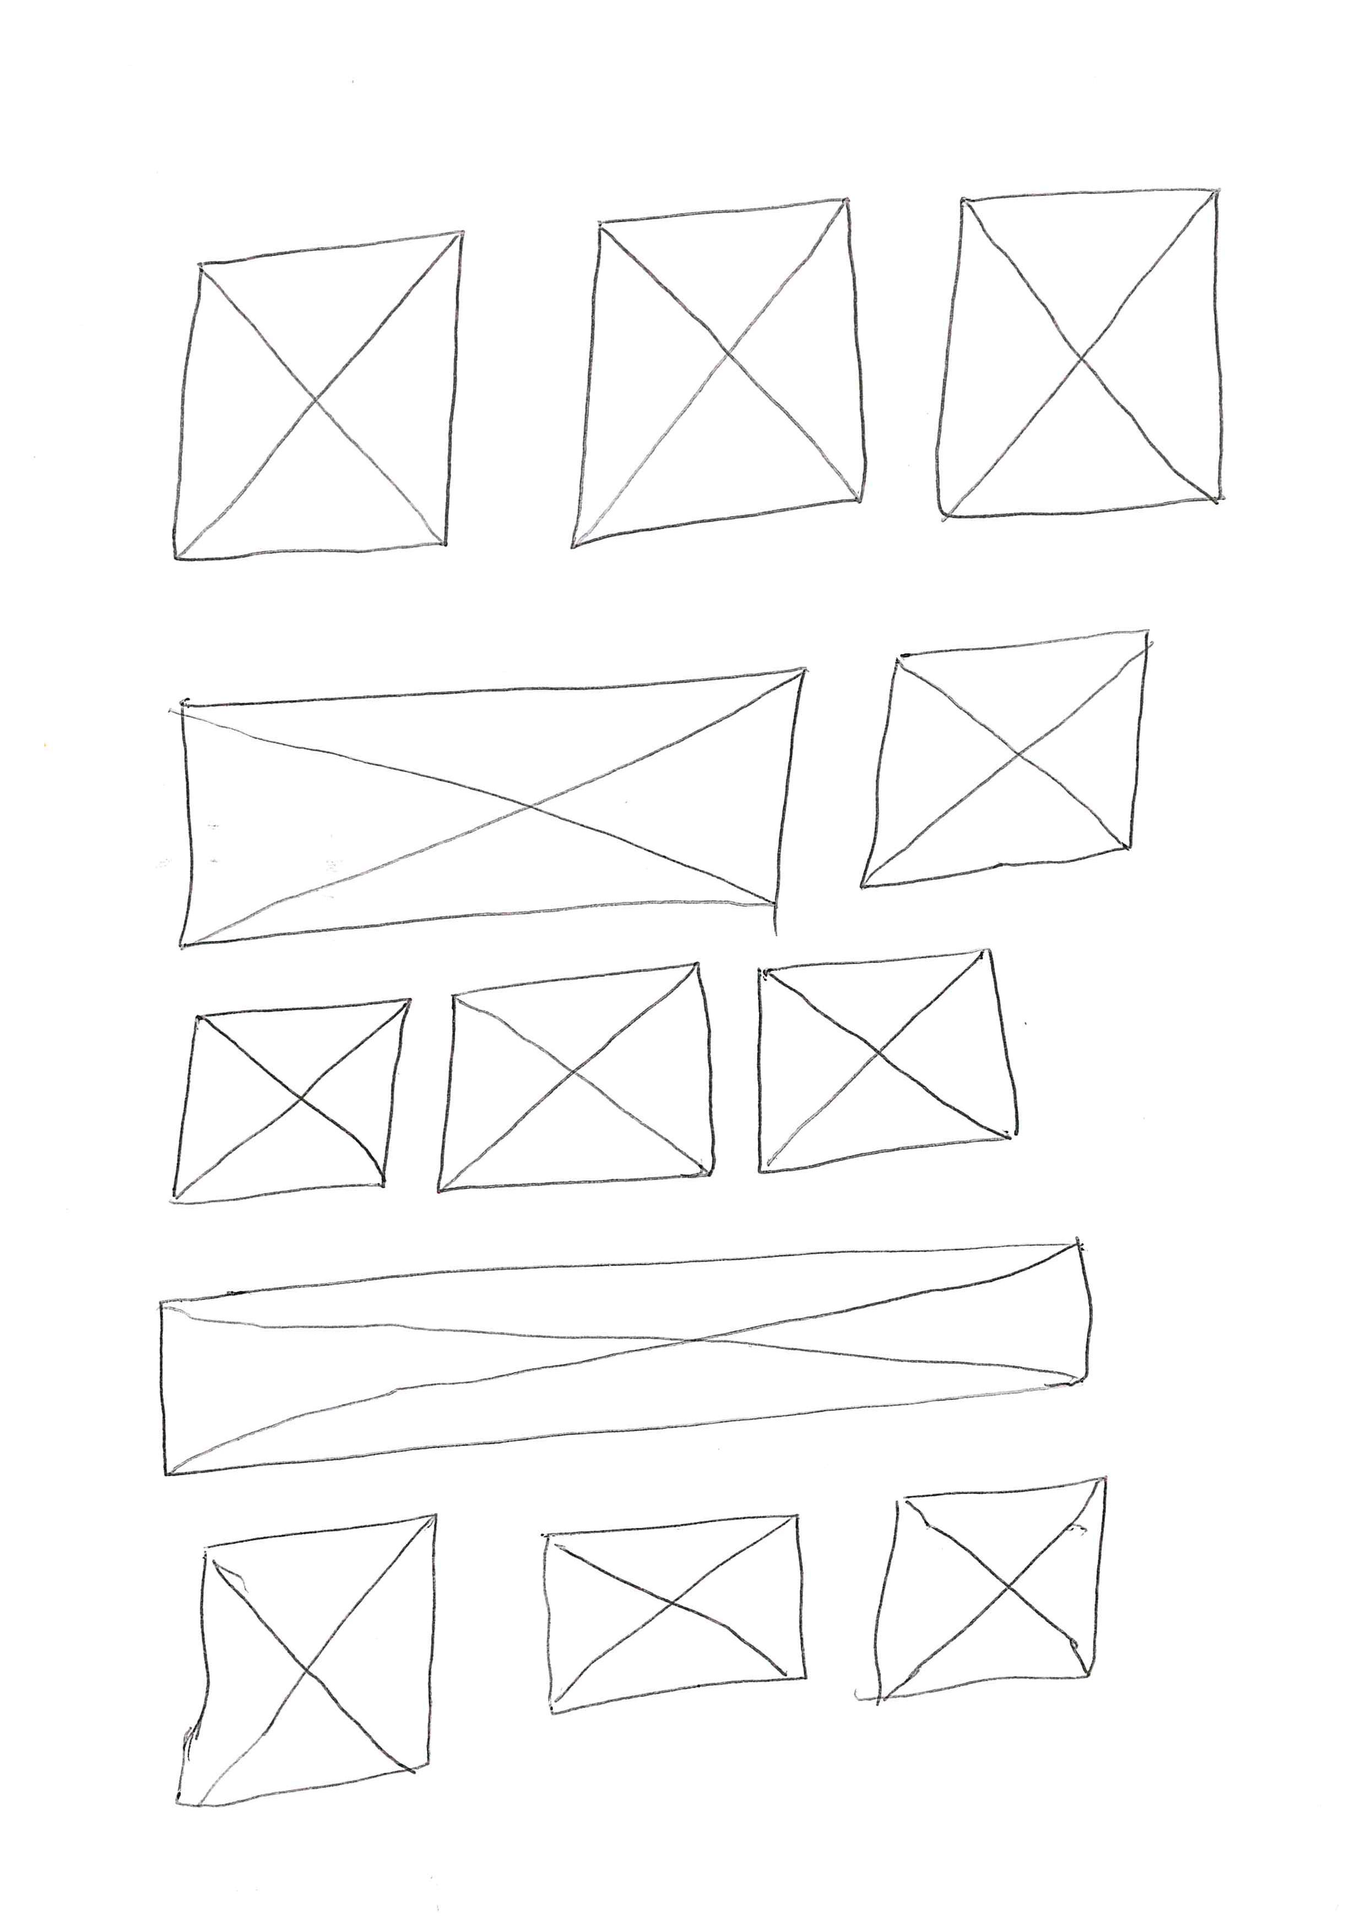Image: (157, 1241, 1095, 1484), (174, 662, 809, 954), (565, 191, 874, 550), (166, 223, 472, 566), (930, 182, 1224, 523), (169, 1510, 439, 1816), (856, 622, 1159, 892), (436, 963, 724, 1195), (751, 946, 1027, 1184), (166, 988, 418, 1209), (865, 1479, 1115, 1700), (540, 1516, 812, 1717)
